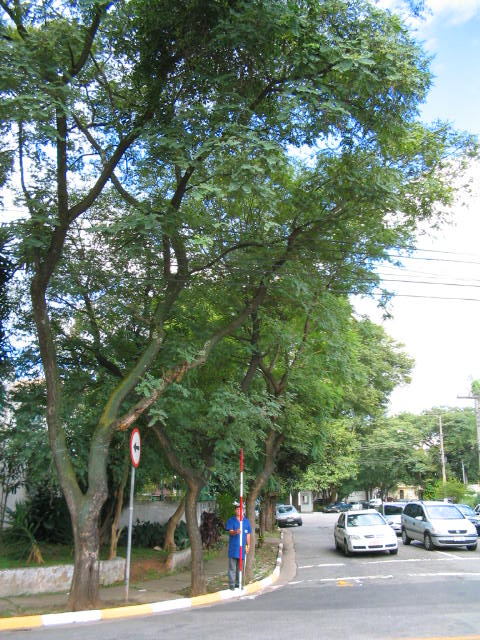stem: (51, 510, 122, 611), (169, 489, 224, 597)
stick: (233, 446, 250, 589)
tree: (2, 1, 431, 607)
